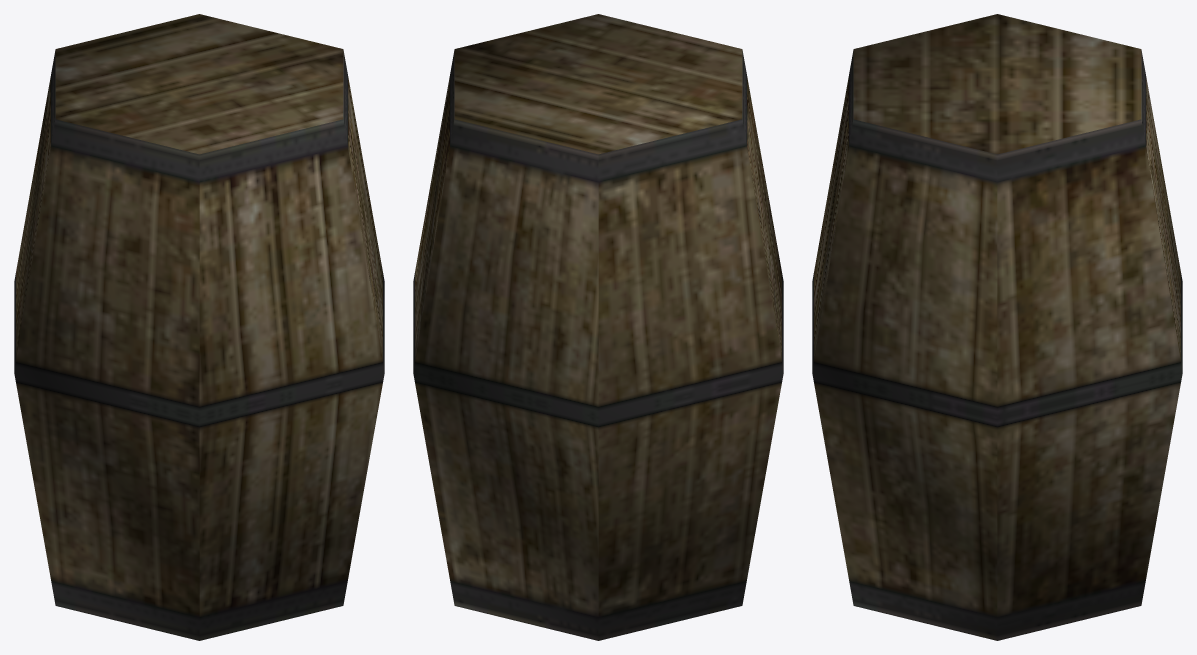
File: cj_ferry_bottle.glb
3 renders of one model, left to right at view 1: azimuth 30°, elevation 25°; view 2: azimuth 150°, elevation 25°; view 3: azimuth 270°, elevation 25°, orthographic.
Parts seen in each view (by area): view 1: CJ_ferry_bottle; view 2: CJ_ferry_bottle; view 3: CJ_ferry_bottle.
Boxes of the visible parts, x1,y1,x2,y2 form: CJ_ferry_bottle: [14, 14, 384, 640]; CJ_ferry_bottle: [413, 14, 783, 640]; CJ_ferry_bottle: [812, 14, 1182, 640].
Bounding box in the file's own units: 1.51 × 1.9 × 1.31.
Materials: 1 (1 with a texture image).
